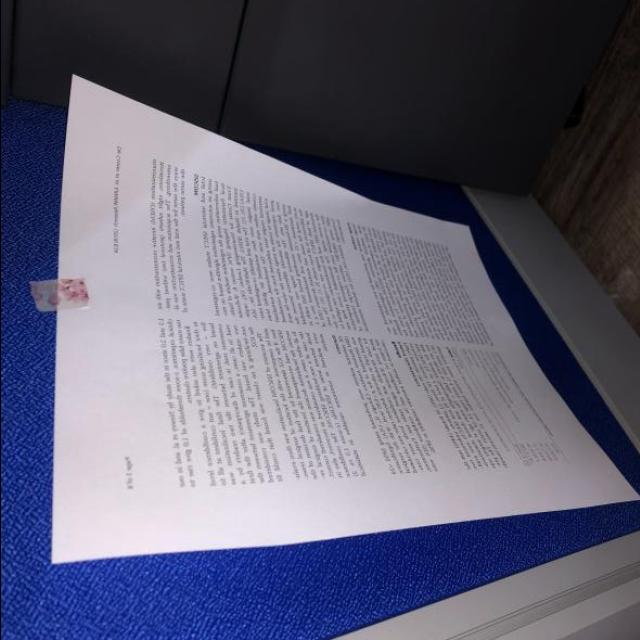kertas: (52, 78, 638, 562)
